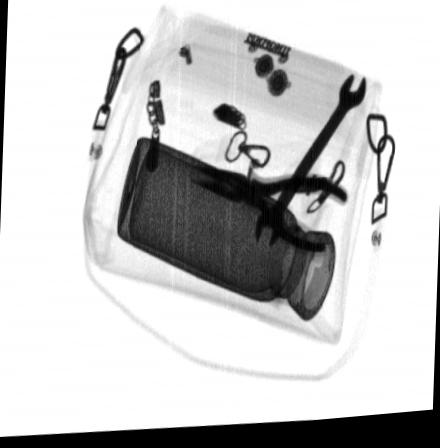Pliers: (188, 168, 350, 258)
Wrench: (254, 80, 365, 253)
